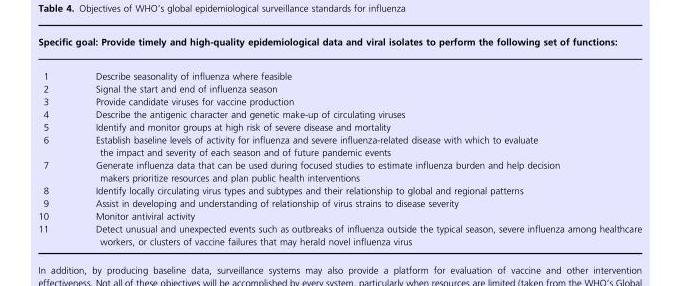table: (37, 37, 641, 246)
table column: (71, 37, 641, 246), (37, 37, 71, 246)
table column header: (37, 37, 641, 82)
table row: (37, 158, 641, 184), (37, 133, 641, 158), (37, 222, 641, 246), (37, 59, 641, 82), (37, 37, 641, 59), (37, 82, 641, 95), (37, 107, 641, 120), (37, 120, 641, 133), (37, 184, 641, 197), (37, 209, 641, 222), (37, 95, 641, 107), (37, 197, 641, 209)
table spanning cell: (37, 37, 641, 59)
